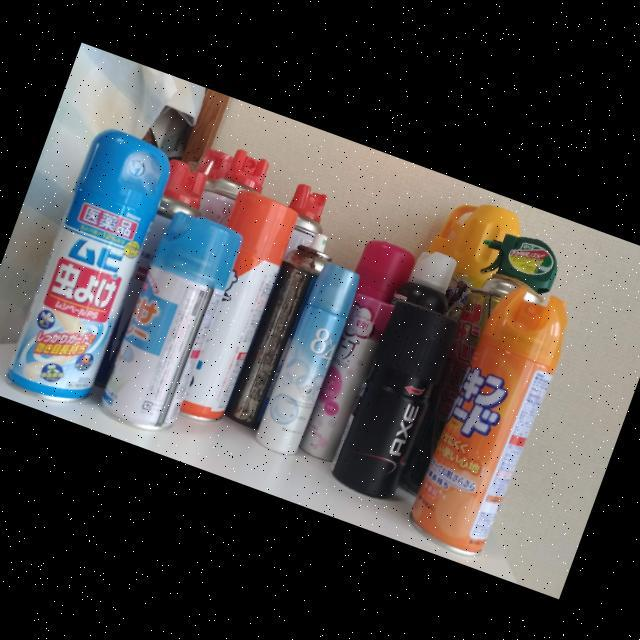chemical_spray_can: (7, 127, 169, 398), (410, 285, 568, 555), (101, 210, 241, 429), (225, 232, 331, 427), (255, 262, 359, 453)
